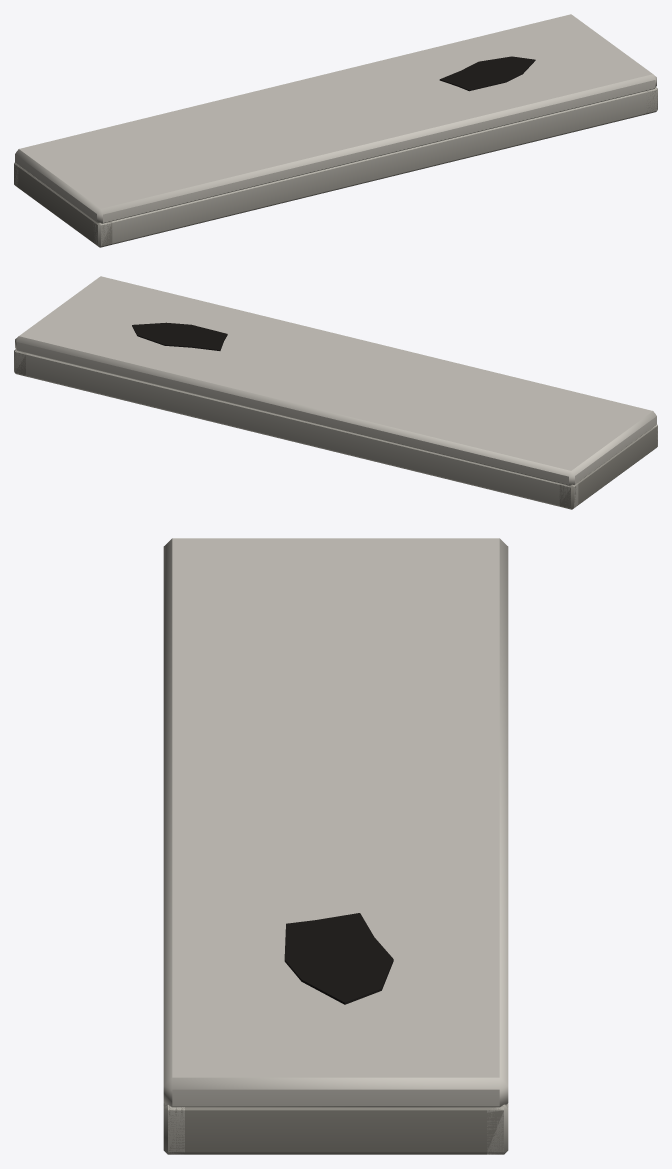
File: 51_plafonnier_neon.fbx
The picture shows the model from 3 angles, top to bottom: view 1: azimuth 30°, elevation 25°; view 2: azimuth 150°, elevation 25°; view 3: azimuth 270°, elevation 25°; orthographic projection. The views are drawn at different scales.
Visible parts, largest first — view 1: Boitier; view 2: Boitier; view 3: Boitier.
Part boxes in pixels (x1,y1,x2,y2): Boitier: (14,14,657,247); Boitier: (14,276,657,509); Boitier: (163,538,508,1154).
Size of the model in its own units: 0.84 by 0.056 by 0.224.
Materials: 1 (1 with a texture image).
